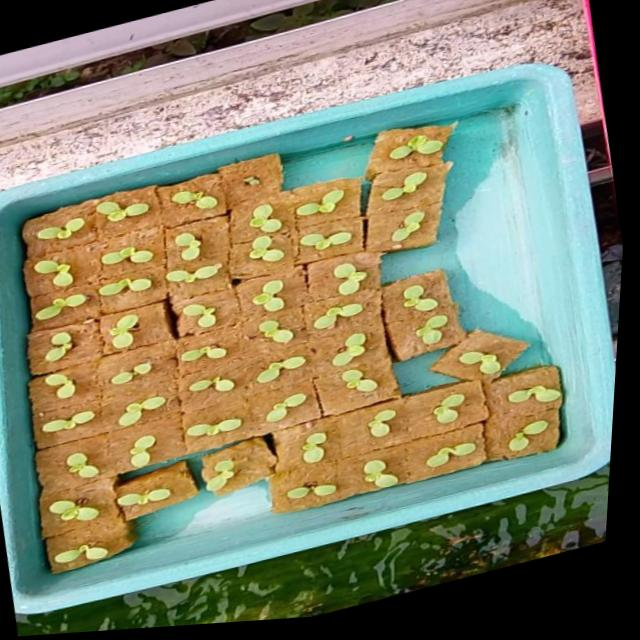Baby: (498, 416, 560, 453), (447, 341, 505, 380), (57, 448, 121, 480), (426, 433, 485, 465), (104, 355, 164, 385), (332, 332, 384, 366), (31, 294, 89, 323), (298, 226, 350, 258), (316, 303, 365, 334), (177, 302, 222, 335), (487, 391, 541, 418), (31, 327, 72, 362), (120, 396, 167, 426), (379, 175, 424, 204), (387, 139, 441, 163), (257, 356, 305, 383), (416, 315, 452, 350), (44, 410, 96, 432), (331, 264, 365, 297), (164, 264, 220, 284), (295, 190, 341, 214), (95, 202, 147, 223), (107, 313, 138, 348), (37, 218, 85, 240), (98, 278, 151, 297), (187, 375, 237, 395), (389, 214, 422, 244), (364, 457, 398, 486), (342, 368, 378, 395), (34, 261, 71, 287), (251, 282, 282, 313), (248, 207, 280, 237), (247, 237, 282, 264), (431, 393, 462, 422), (170, 193, 215, 211), (131, 435, 157, 466), (259, 320, 294, 343), (182, 345, 228, 362), (402, 285, 436, 308), (269, 395, 299, 421), (47, 372, 78, 397), (302, 431, 327, 462), (173, 233, 199, 261), (369, 408, 395, 436), (102, 248, 141, 265)
